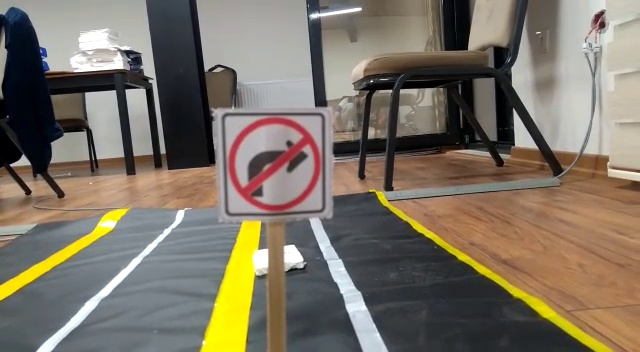saga_donulmez: (221, 111, 331, 217)
